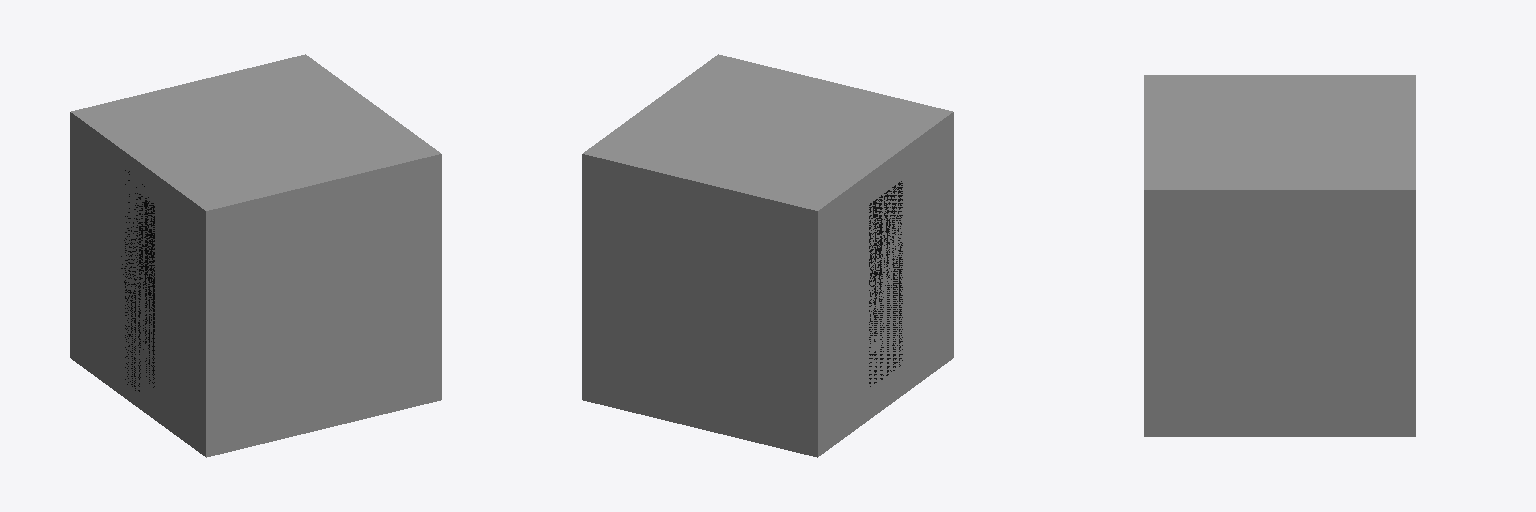
3 renders of one model, left to right at view 1: azimuth 30°, elevation 25°; view 2: azimuth 150°, elevation 25°; view 3: azimuth 270°, elevation 25°, orthographic.
Visible parts, largest first — view 1: Minecraft_Block_Cube, Minecraft_2_Edge_Connectivity_Cube.002, coreWall; view 2: Minecraft_Block_Cube, Minecraft_2_Edge_Connectivity_Cube.002, coreWall; view 3: Minecraft_Block_Cube.
Boxes of the visible parts, box(x1,y1,x2,y2) form: Minecraft_Block_Cube: box(71, 54, 441, 457); Minecraft_2_Edge_Connectivity_Cube.002: box(70, 112, 322, 456); coreWall: box(121, 193, 154, 387); Minecraft_Block_Cube: box(582, 54, 952, 457); Minecraft_2_Edge_Connectivity_Cube.002: box(703, 112, 953, 456); coreWall: box(869, 181, 902, 386); Minecraft_Block_Cube: box(1144, 75, 1415, 436).
Bounding box in the file's own units: 1 × 1 × 1.
3 materials, 1 textured.